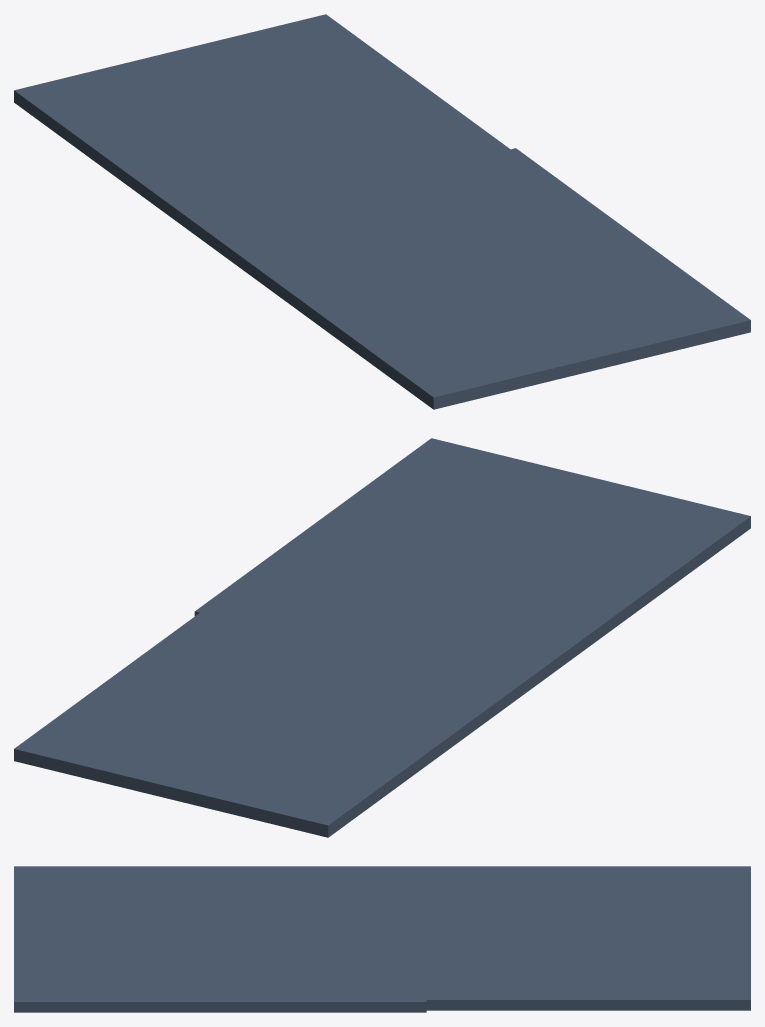
The model's file is floor_002_l_archive_a_floor_passage.obj.
3 renders of one model, top to bottom at view 1: azimuth 30°, elevation 25°; view 2: azimuth 150°, elevation 25°; view 3: azimuth 270°, elevation 25°, orthographic. The views are drawn at different scales.
Visible parts, largest first — view 1: Floor_002_l_archive_a_floor_passage; view 2: Floor_002_l_archive_a_floor_passage; view 3: Floor_002_l_archive_a_floor_passage.
Boxes of the visible parts, bbox=[...] form: Floor_002_l_archive_a_floor_passage: bbox=[14, 14, 750, 409]; Floor_002_l_archive_a_floor_passage: bbox=[14, 438, 750, 837]; Floor_002_l_archive_a_floor_passage: bbox=[14, 866, 750, 1012].
Size of the model in its own units: 5.46 by 0.2 by 12.5.
